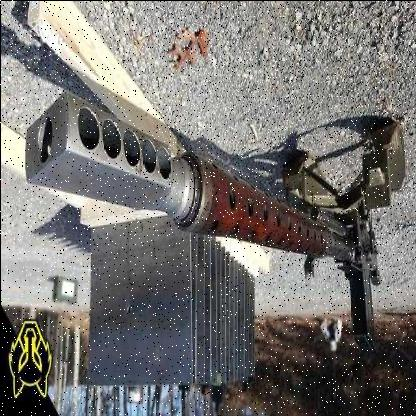rifle: (21, 74, 383, 354)
